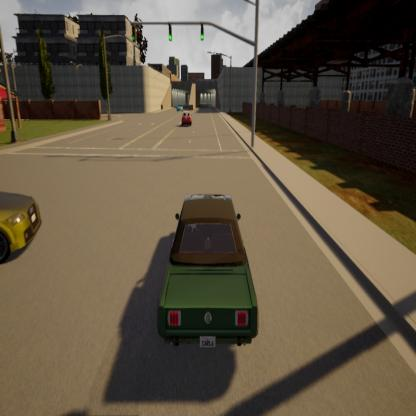Cars: (148, 181, 262, 362), (0, 183, 46, 279), (180, 108, 193, 128), (176, 102, 184, 113)
